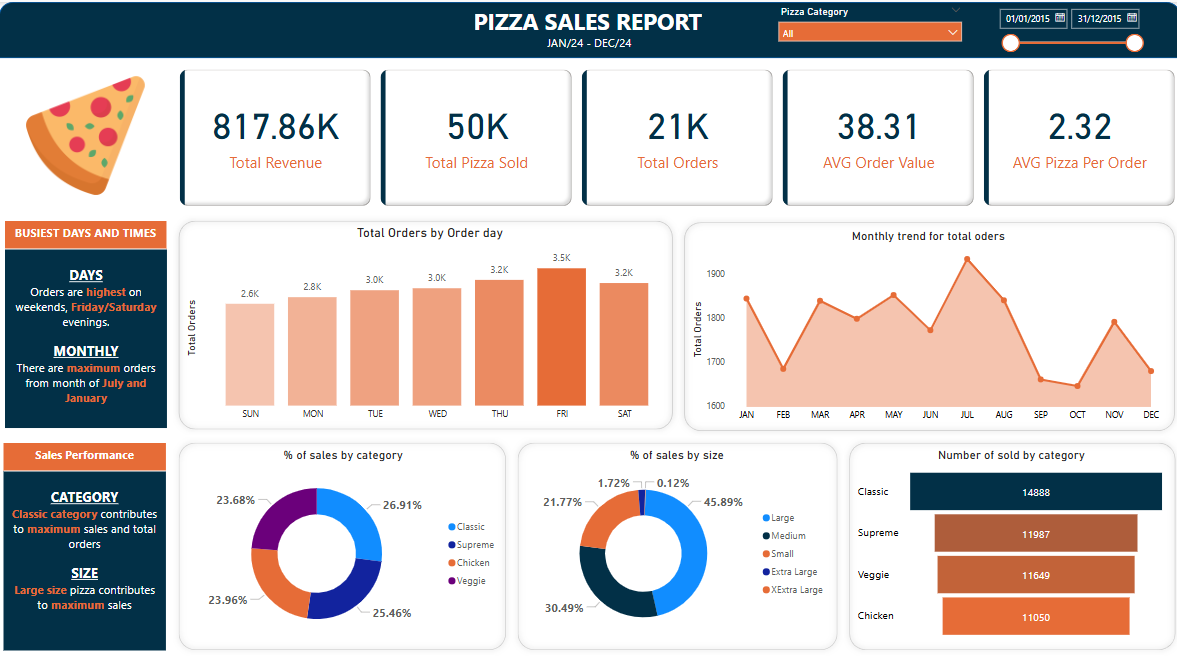

This screenshot's page, from the dashboard's own definition file:
{"tool":"powerbi","page":{"name":"Page 2","canvas":[1664,939],"ordinal":0},"visuals":[{"type":"cardVisual","fields":{"Data":["pizza_sales.Total Revenue","pizza_sales.Total Pizza Sold","pizza_sales.Total Orders","pizza_sales.AVG Order Value","pizza_sales.AVG Pizza Per Order"]},"box":[249,70,1415,242.5],"z":0},{"type":"shape","box":[0,0,1663.6,79.1],"z":1000},{"type":"textbox","box":[663.6,0,356.4,53.6],"z":2000},{"type":"textbox","box":[766.4,40,147.3,31.8],"z":3000},{"type":"image","box":[12.7,95,217.5,185.8],"z":4000},{"type":"shape","box":[245,300,711.7,310],"z":5000},{"type":"columnChart","fields":{"Y":["pizza_sales.Total Orders"],"Category":["pizza_sales.Order day"]},"box":[258.3,315,698.3,283.3],"z":6000},{"type":"shape","box":[956.7,301.7,706.7,310],"z":7000},{"type":"areaChart","title":"Monthly trend for total oders","fields":{"Category":["pizza_sales (2).Order Month"],"Y":["pizza_sales.Total Orders"]},"box":[968.3,318.3,678.3,280],"z":8000},{"type":"shape","box":[245,612.4,477.3,308.3],"z":9000},{"type":"shape","box":[722.2,612.4,466.7,308.3],"z":10000},{"type":"shape","box":[1188.9,612.4,475.1,308.3],"z":11000},{"type":"donutChart","title":"% of sales by category","fields":{"Category":["pizza_sales.pizza_category"],"Y":["pizza_sales.Total Revenue"]},"box":[258,627,454,279],"z":12000},{"type":"donutChart","title":"% of sales by size","fields":{"Y":["pizza_sales.Total Revenue"],"Category":["pizza_sales.pizza_size"]},"box":[734.9,627.2,439.2,278.8],"z":13000},{"type":"funnel","title":"Number of sold by category","fields":{"Category":["pizza_sales.pizza_category"],"Y":["pizza_sales.Total Pizza Sold"]},"box":[1203.7,627.2,443.5,278.8],"z":14000},{"type":"textbox","box":[8.8,309.3,227.1,38.6],"z":15000},{"type":"textbox","box":[8.4,348.4,228.1,251.3],"z":16000},{"type":"textbox","box":[6.7,621.7,228.3,38.3],"z":17000},{"type":"textbox","box":[6.7,660,228.3,251.7],"z":18000},{"type":"slicer","fields":{"Values":["pizza_sales.pizza_category"]},"box":[1087.3,0,278.2,70],"z":19000},{"type":"slicer","fields":{"Values":["pizza_sales.order_date"]},"box":[1395,0,224,72],"z":20000}]}

Visuals, with their boxes in screenshot pixels (x1, y1, x2, y2), scaled from the page's 1664x939 canvas onto the 1177x657 screenshot:
cardVisual - pizza_sales.Total Revenue x pizza_sales.Total Pizza Sold: l=176, t=49, r=1176, b=219
shape: l=0, t=0, r=1176, b=55
textbox: l=469, t=0, r=721, b=38
textbox: l=542, t=28, r=646, b=50
image: l=9, t=66, r=163, b=196
shape: l=173, t=210, r=677, b=427
columnChart - pizza_sales.Total Orders x pizza_sales.Order day: l=183, t=220, r=677, b=419
shape: l=677, t=211, r=1176, b=428
"Monthly trend for total oders" areaChart: l=685, t=223, r=1165, b=419
shape: l=173, t=428, r=511, b=644
shape: l=511, t=428, r=841, b=644
shape: l=841, t=428, r=1176, b=644
"% of sales by category" donutChart: l=182, t=439, r=504, b=634
"% of sales by size" donutChart: l=520, t=439, r=830, b=634
"Number of sold by category" funnel: l=851, t=439, r=1165, b=634
textbox: l=6, t=216, r=167, b=243
textbox: l=6, t=244, r=167, b=420
textbox: l=5, t=435, r=166, b=462
textbox: l=5, t=462, r=166, b=638
slicer - pizza_sales.pizza_category: l=769, t=0, r=966, b=49
slicer - pizza_sales.order_date: l=987, t=0, r=1145, b=50
